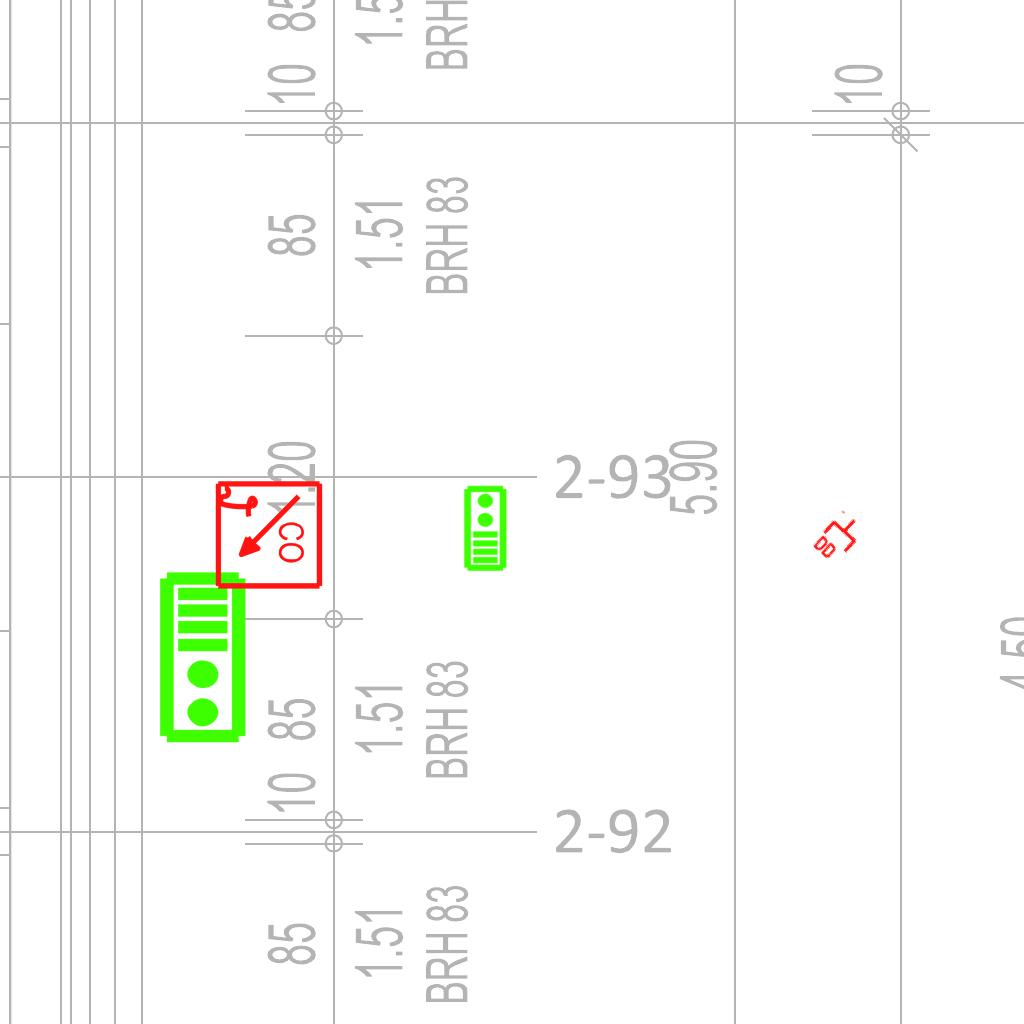Datenanschluss_zweifach: (809, 508, 869, 569)
Gegensprechanlage_mit_Video: (157, 570, 252, 746), (461, 484, 508, 572)
ROA_Rauchmelder_optisch_mit_Signalgeber_(Sockelsirene): (211, 479, 324, 592)
